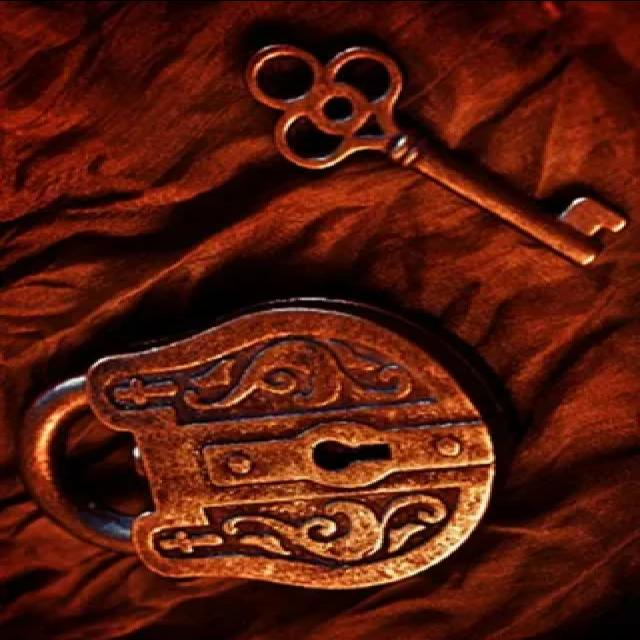key: (229, 28, 622, 272)
